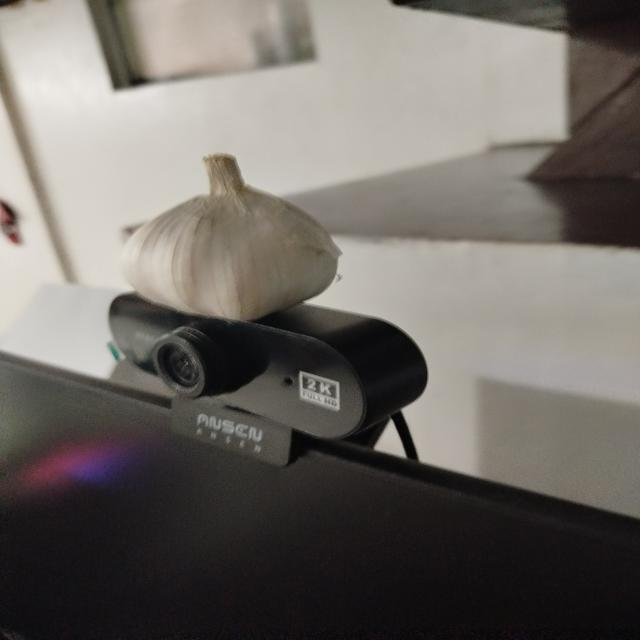garlic: (120, 152, 343, 322)
